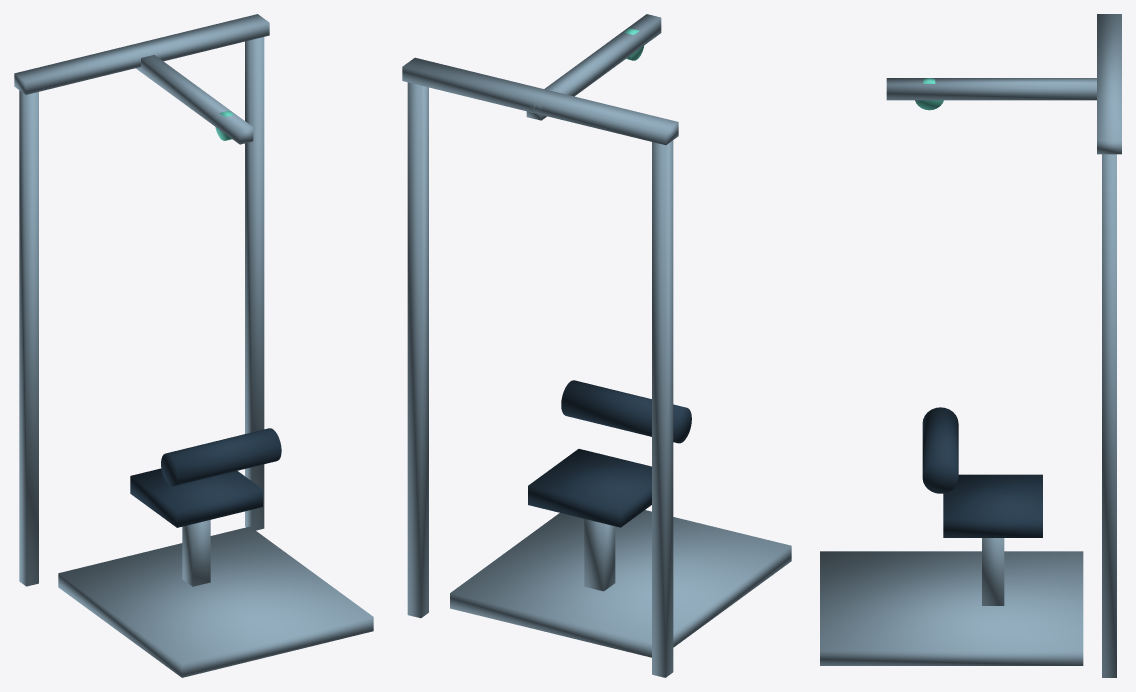
Rendered from lat_station_a.glb.
3 renders of one model, left to right at view 1: azimuth 30°, elevation 25°; view 2: azimuth 150°, elevation 25°; view 3: azimuth 270°, elevation 25°, orthographic. The views are drawn at different scales.
Parts seen in each view (by area): view 1: lat_frame, seat, thigh_pad, lat_top_beam, seat_support; view 2: lat_frame, seat, thigh_pad, lat_top_beam, seat_support; view 3: lat_frame, seat, lat_top_beam, thigh_pad, seat_support.
Boxes of the visible parts, left/top/right/bottom form: lat_frame: left=14, top=14, right=373, bottom=677; seat: left=130, top=468, right=262, bottom=527; thigh_pad: left=161, top=428, right=281, bottom=486; lat_top_beam: left=136, top=55, right=253, bottom=144; seat_support: left=182, top=520, right=210, bottom=586; lat_frame: left=402, top=57, right=791, bottom=677; seat: left=528, top=449, right=651, bottom=527; thigh_pad: left=561, top=380, right=691, bottom=443; lat_top_beam: left=526, top=14, right=661, bottom=120; seat_support: left=584, top=519, right=615, bottom=591; lat_frame: left=820, top=14, right=1121, bottom=677; seat: left=943, top=474, right=1042, bottom=537; lat_top_beam: left=886, top=78, right=1096, bottom=100; thigh_pad: left=922, top=407, right=958, bottom=493; seat_support: left=982, top=538, right=1004, bottom=605.
Bounding box in the file's own units: 1.08 × 2.15 × 1.09.
